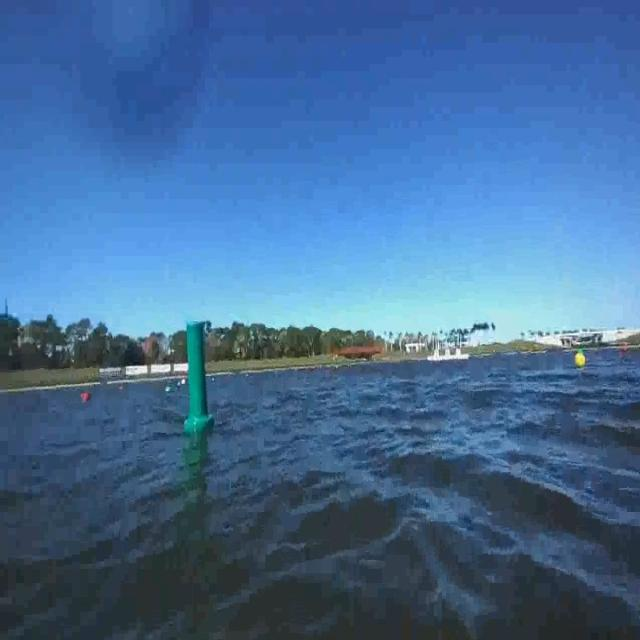green-column-buoy: (183, 318, 214, 433)
red-buoy: (81, 392, 89, 402)
yellow-buoy: (574, 350, 586, 369)
